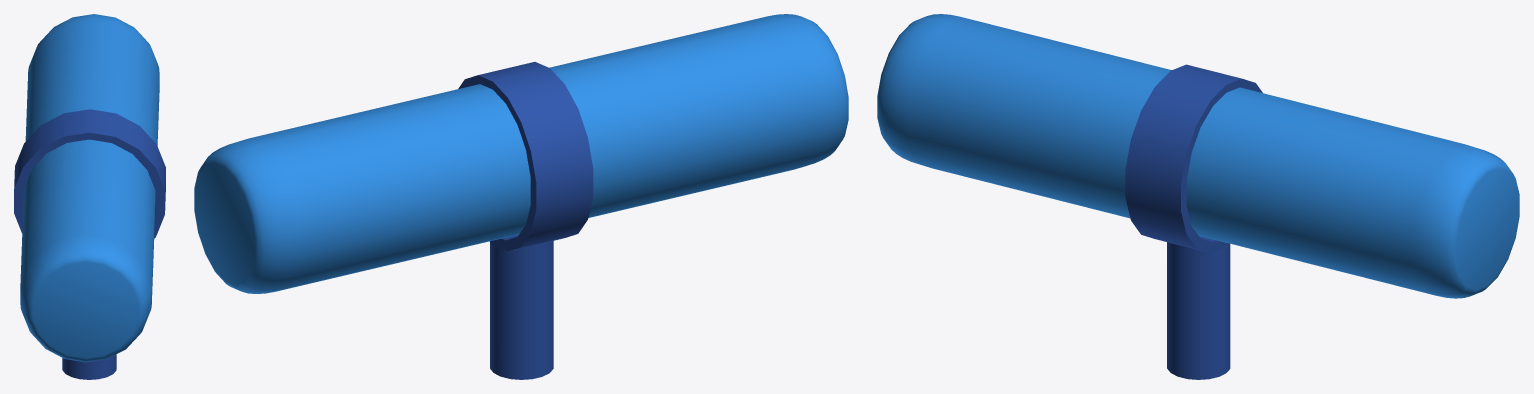
File: cylinder_obstacle.glb
3 renders of one model, left to right at view 1: azimuth 30°, elevation 25°; view 2: azimuth 150°, elevation 25°; view 3: azimuth 270°, elevation 25°, orthographic. The views are drawn at different scales.
Parts seen in each view (by area): view 1: Cylinder, Cylinder_body; view 2: Cylinder, Cylinder_body; view 3: Cylinder, Cylinder_body.
Part boxes in pixels (x1,y1,x2,y2): Cylinder: (20,14,159,362); Cylinder_body: (14,109,165,379); Cylinder: (194,14,848,293); Cylinder_body: (458,62,593,379); Cylinder: (877,14,1519,298); Cylinder_body: (1125,64,1262,379).
Bounding box in the file's own units: 205 × 143 × 287.
